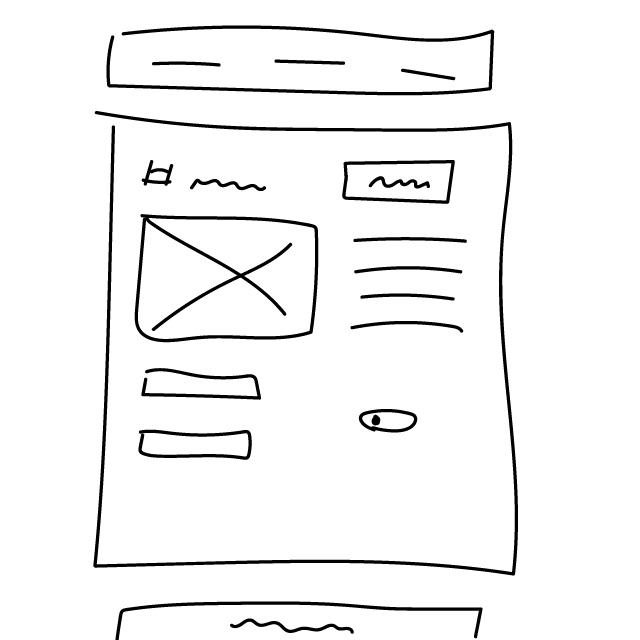button: (341, 157, 458, 212)
checkbox: (357, 404, 422, 437)
container: (87, 105, 533, 582)
footer: (107, 596, 504, 640)
frame: (129, 209, 325, 345)
heading: (139, 158, 273, 201)
input: (134, 422, 258, 464), (140, 365, 264, 406)
nav: (102, 21, 500, 100)
text: (348, 230, 474, 341)
